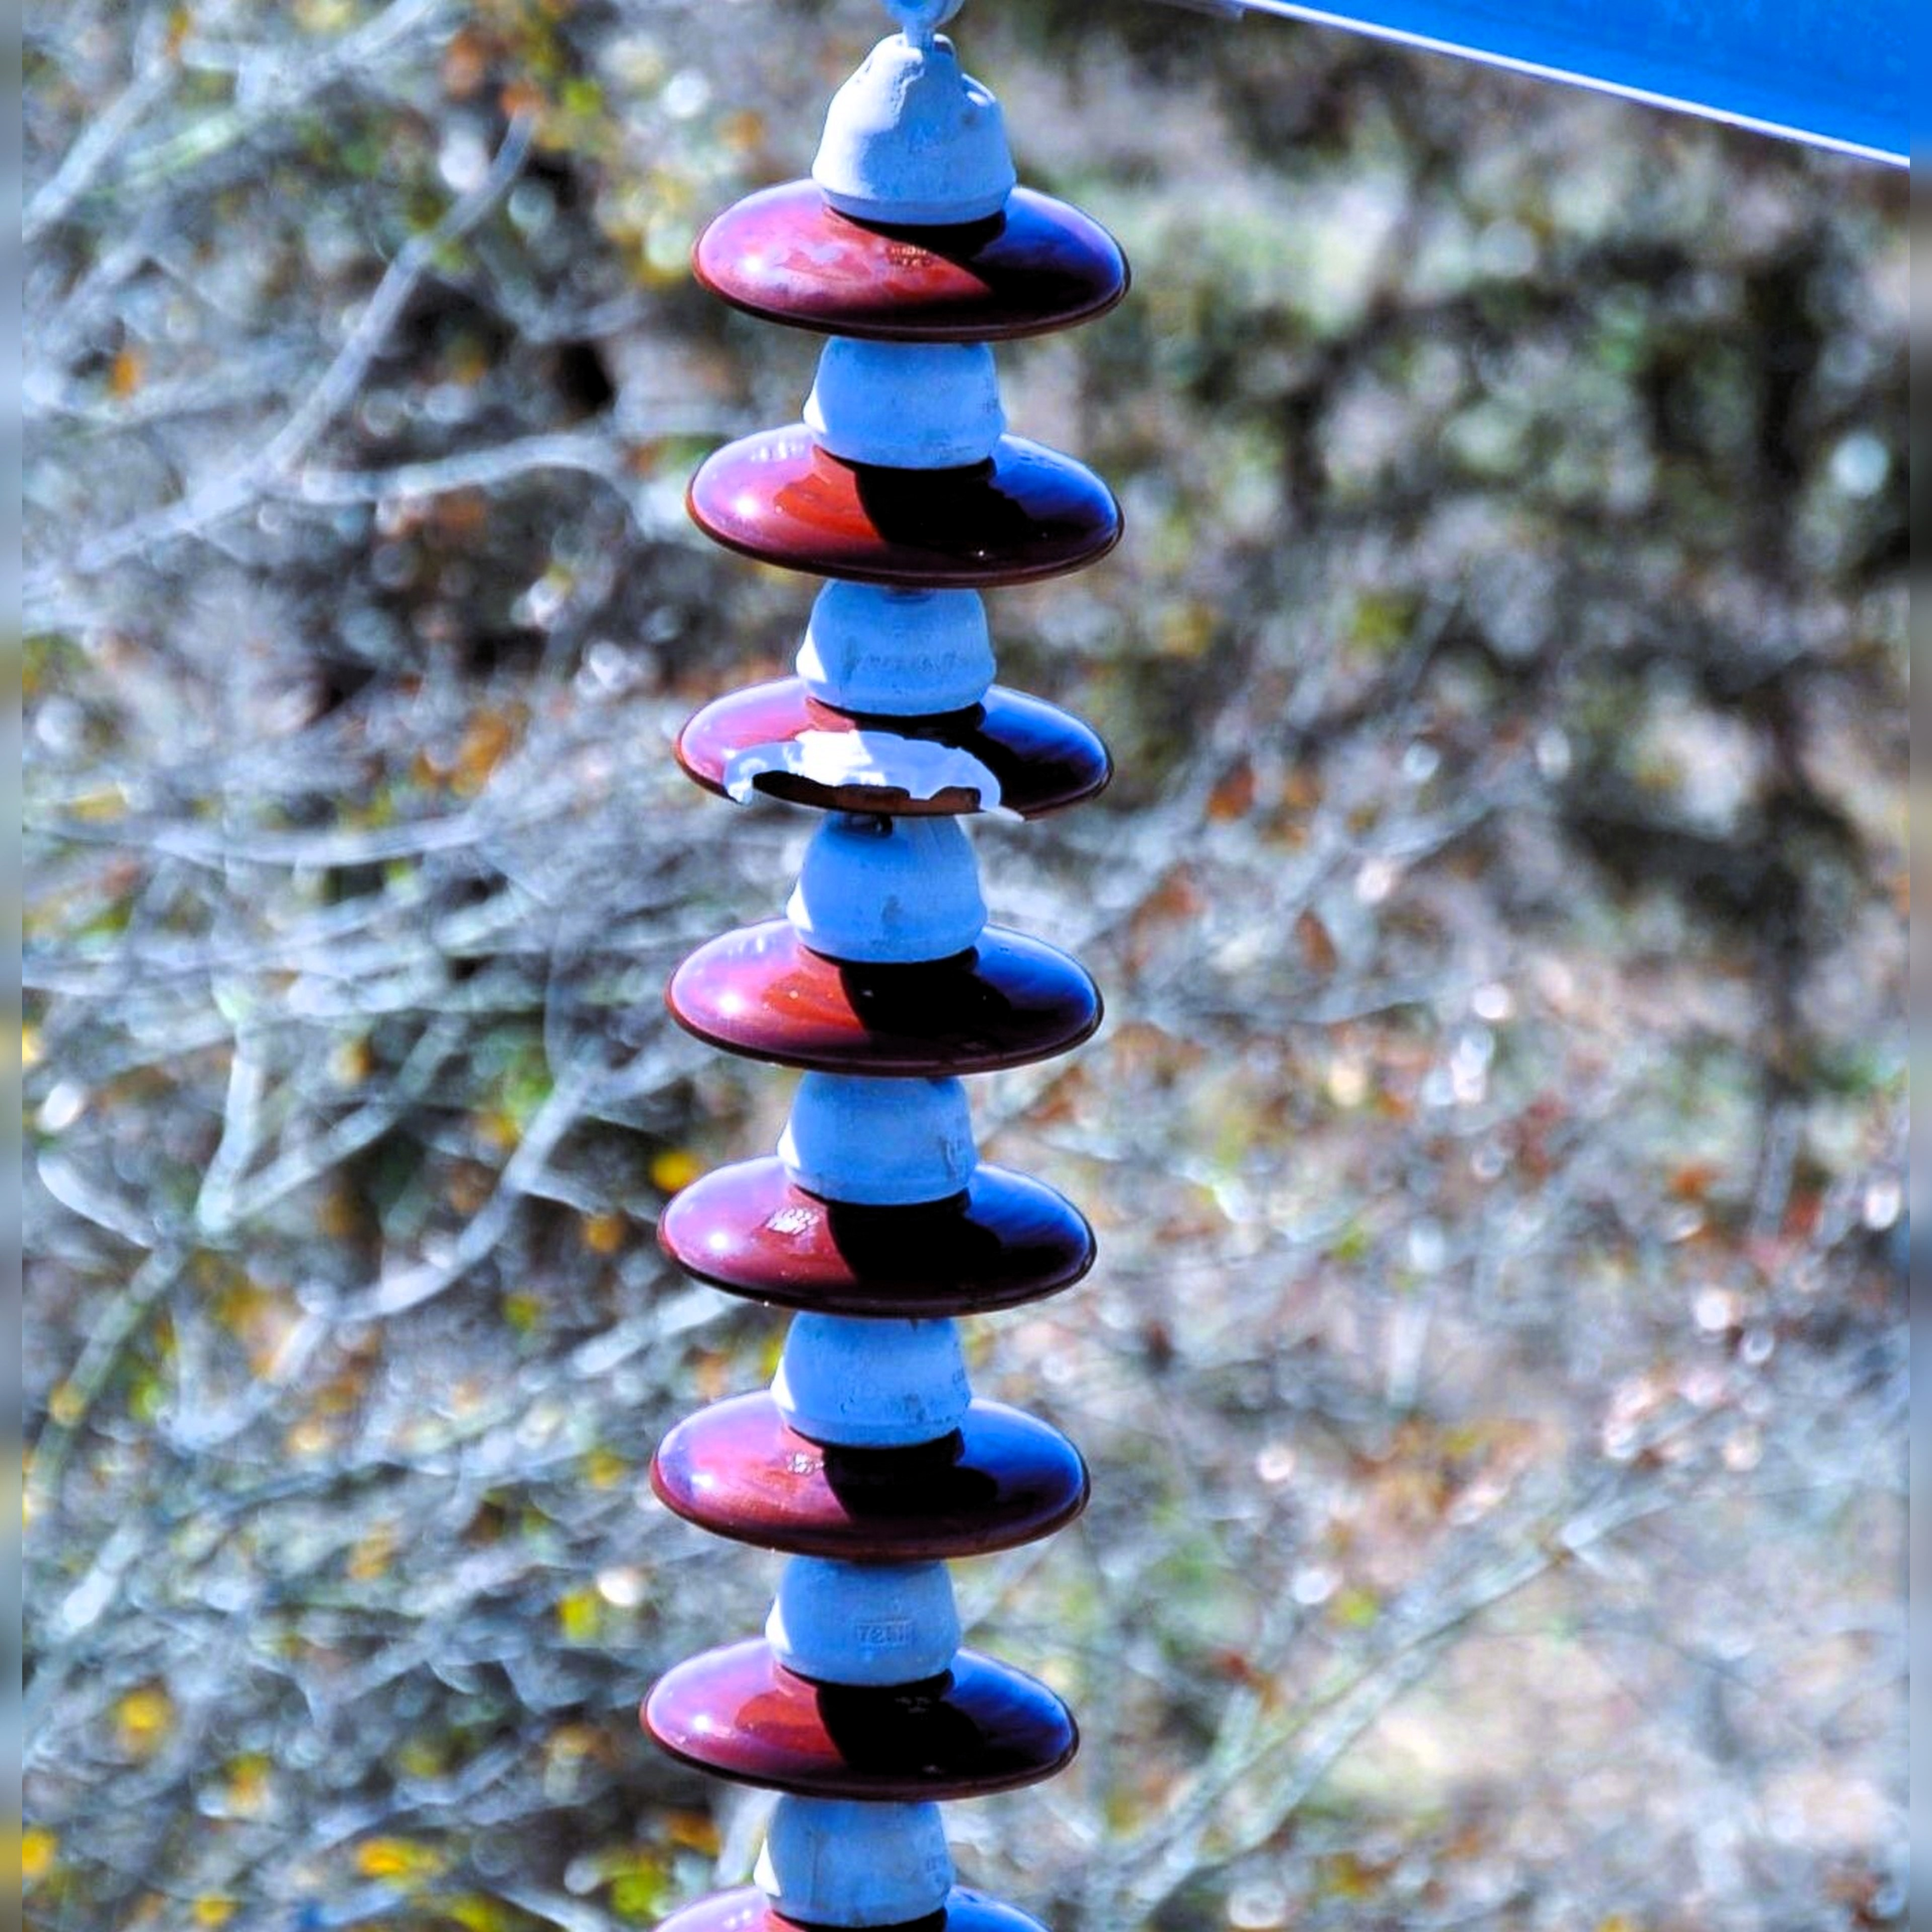insulator breakage: (671, 669, 1122, 830)
